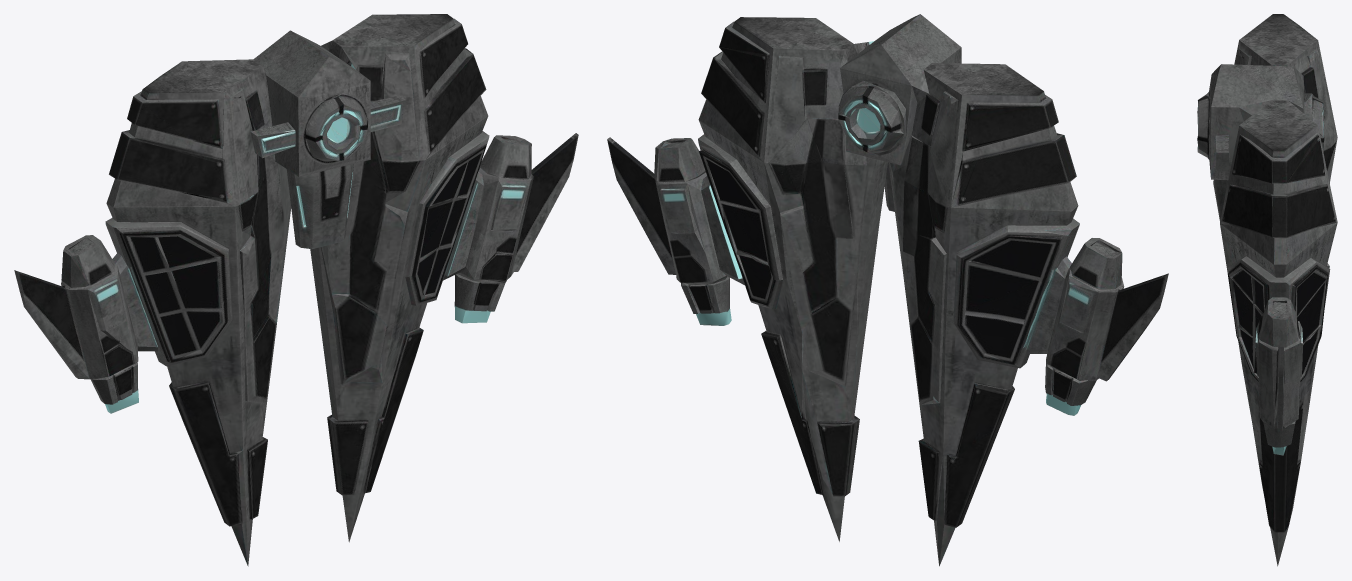
File: Enemy3-v2.glb
The picture shows the model from 3 angles, left to right: view 1: azimuth 30°, elevation 25°; view 2: azimuth 150°, elevation 25°; view 3: azimuth 270°, elevation 25°; orthographic projection. The views are drawn at different scales.
Visible parts, largest first — view 1: output_unwrapped; view 2: output_unwrapped; view 3: output_unwrapped.
Boxes of the visible parts, <box> form: output_unwrapped: <box>14,14,578,566</box>; output_unwrapped: <box>607,14,1168,566</box>; output_unwrapped: <box>1197,14,1337,566</box>.
Bounding box in the file's own units: 1.9 × 1.68 × 0.4467.
1 material, 1 textured.
